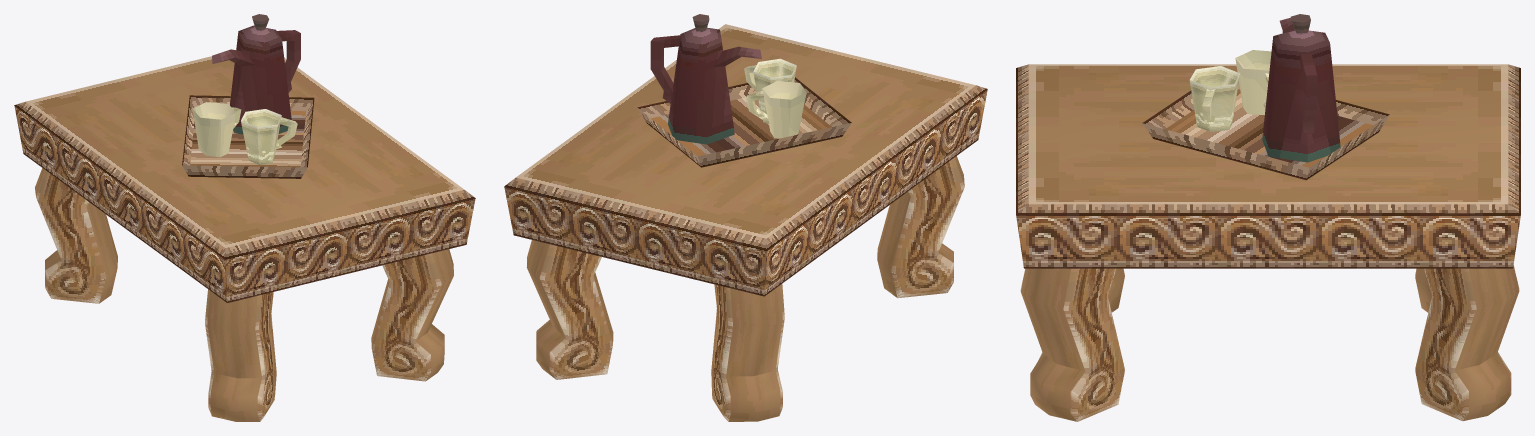
File: desk8-1.glb
3 views of the same model, side by side, from view 1: azimuth 30°, elevation 25°; view 2: azimuth 150°, elevation 25°; view 3: azimuth 270°, elevation 25° (orthographic). The views are drawn at different scales.
Visible parts, largest first — view 1: desk8_1; view 2: desk8_1; view 3: desk8_1.
Part boxes in pixels (<box>): desk8_1: <box>14,14,475,421</box>; desk8_1: <box>504,14,987,421</box>; desk8_1: <box>1016,14,1520,421</box>.
Bounding box in the file's own units: 220 × 248 × 320.
Materials: 9 (9 with a texture image).
